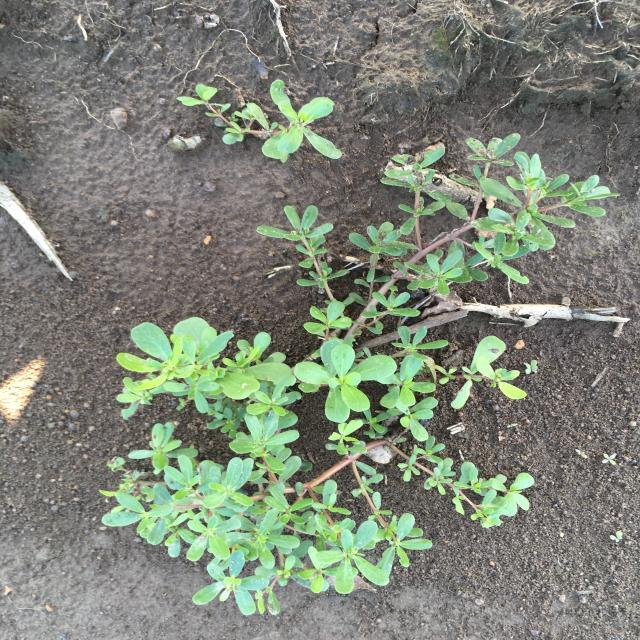Purslane: (99, 133, 622, 615), (177, 80, 343, 164)
